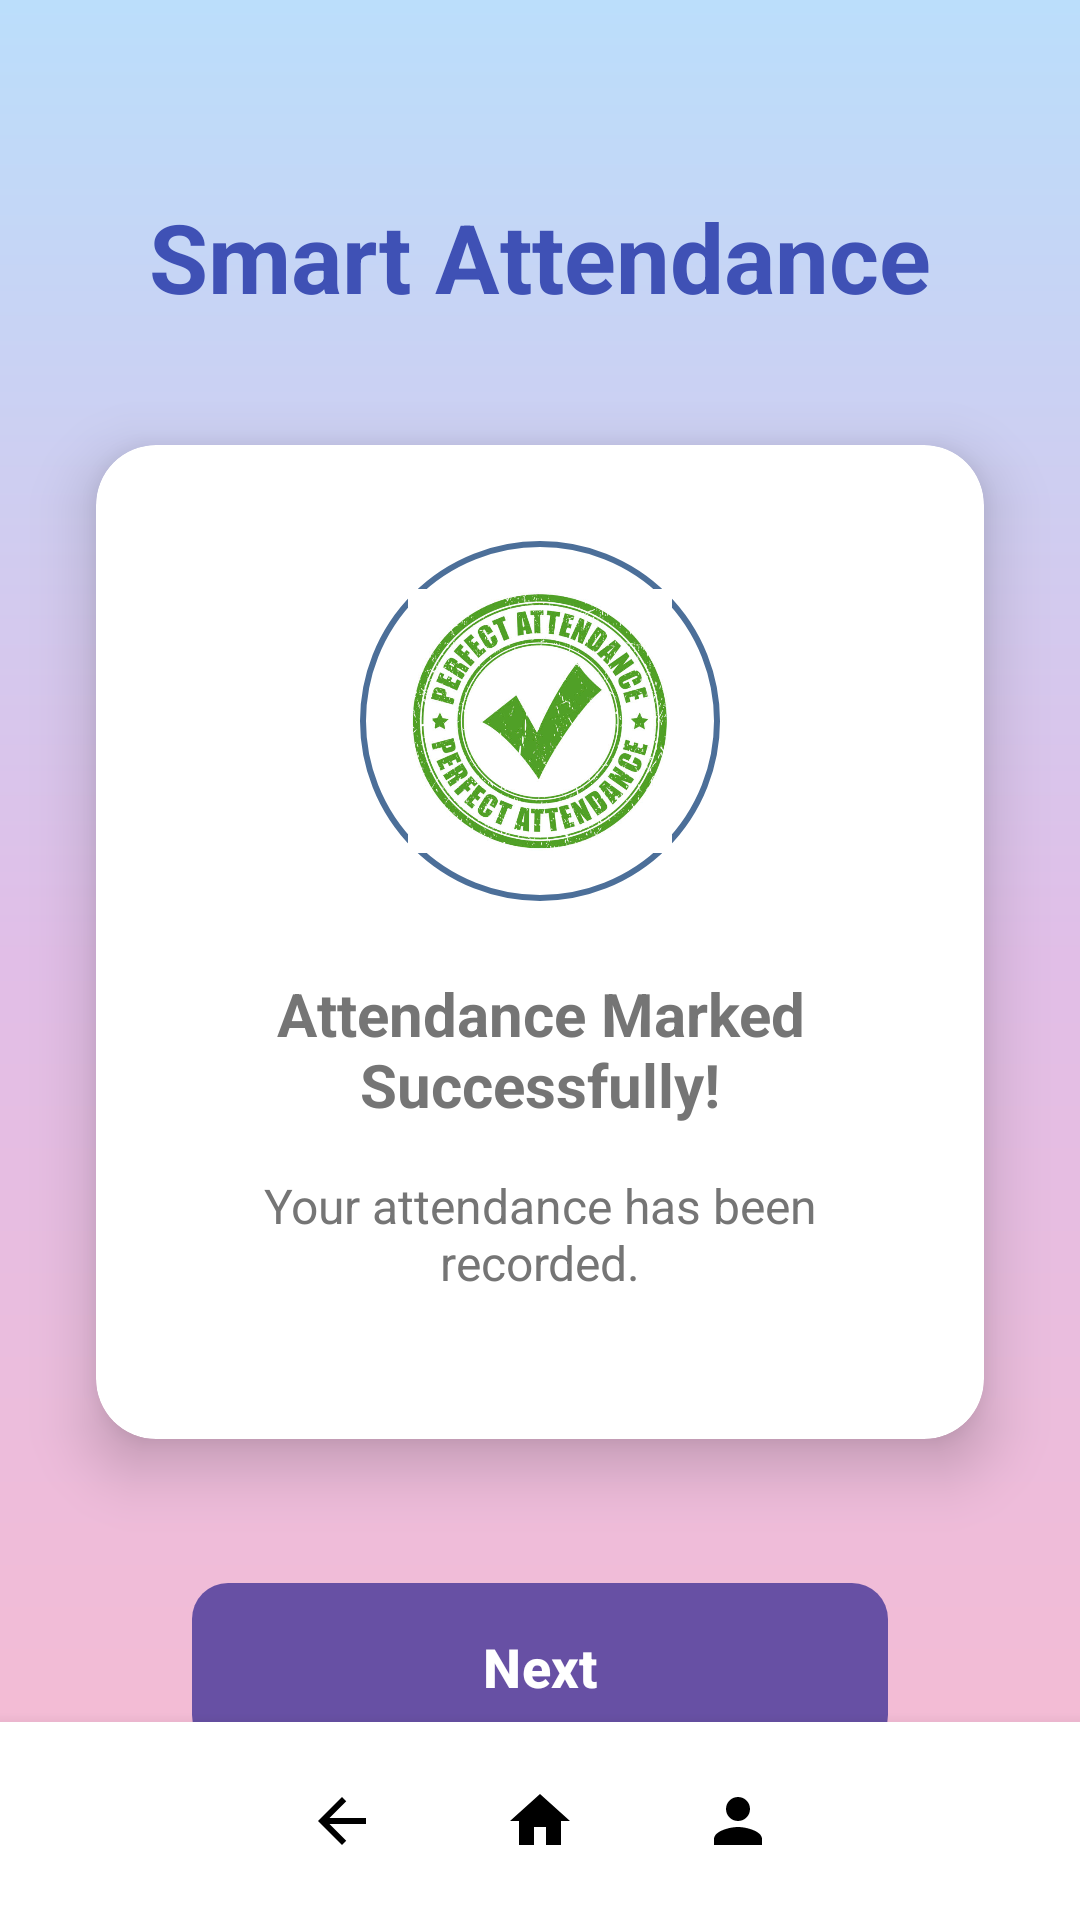

Named icons in this screenshot (1080x1920) and their centers, (x,y):
Attendance Success Icon: (540,721)
Back: (342,1821)
Home: (540,1819)
Profile: (738,1821)
